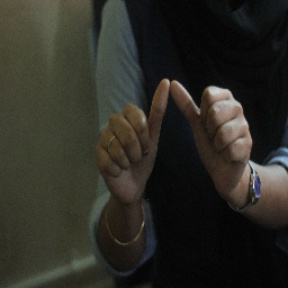A: (97, 74, 250, 195)
